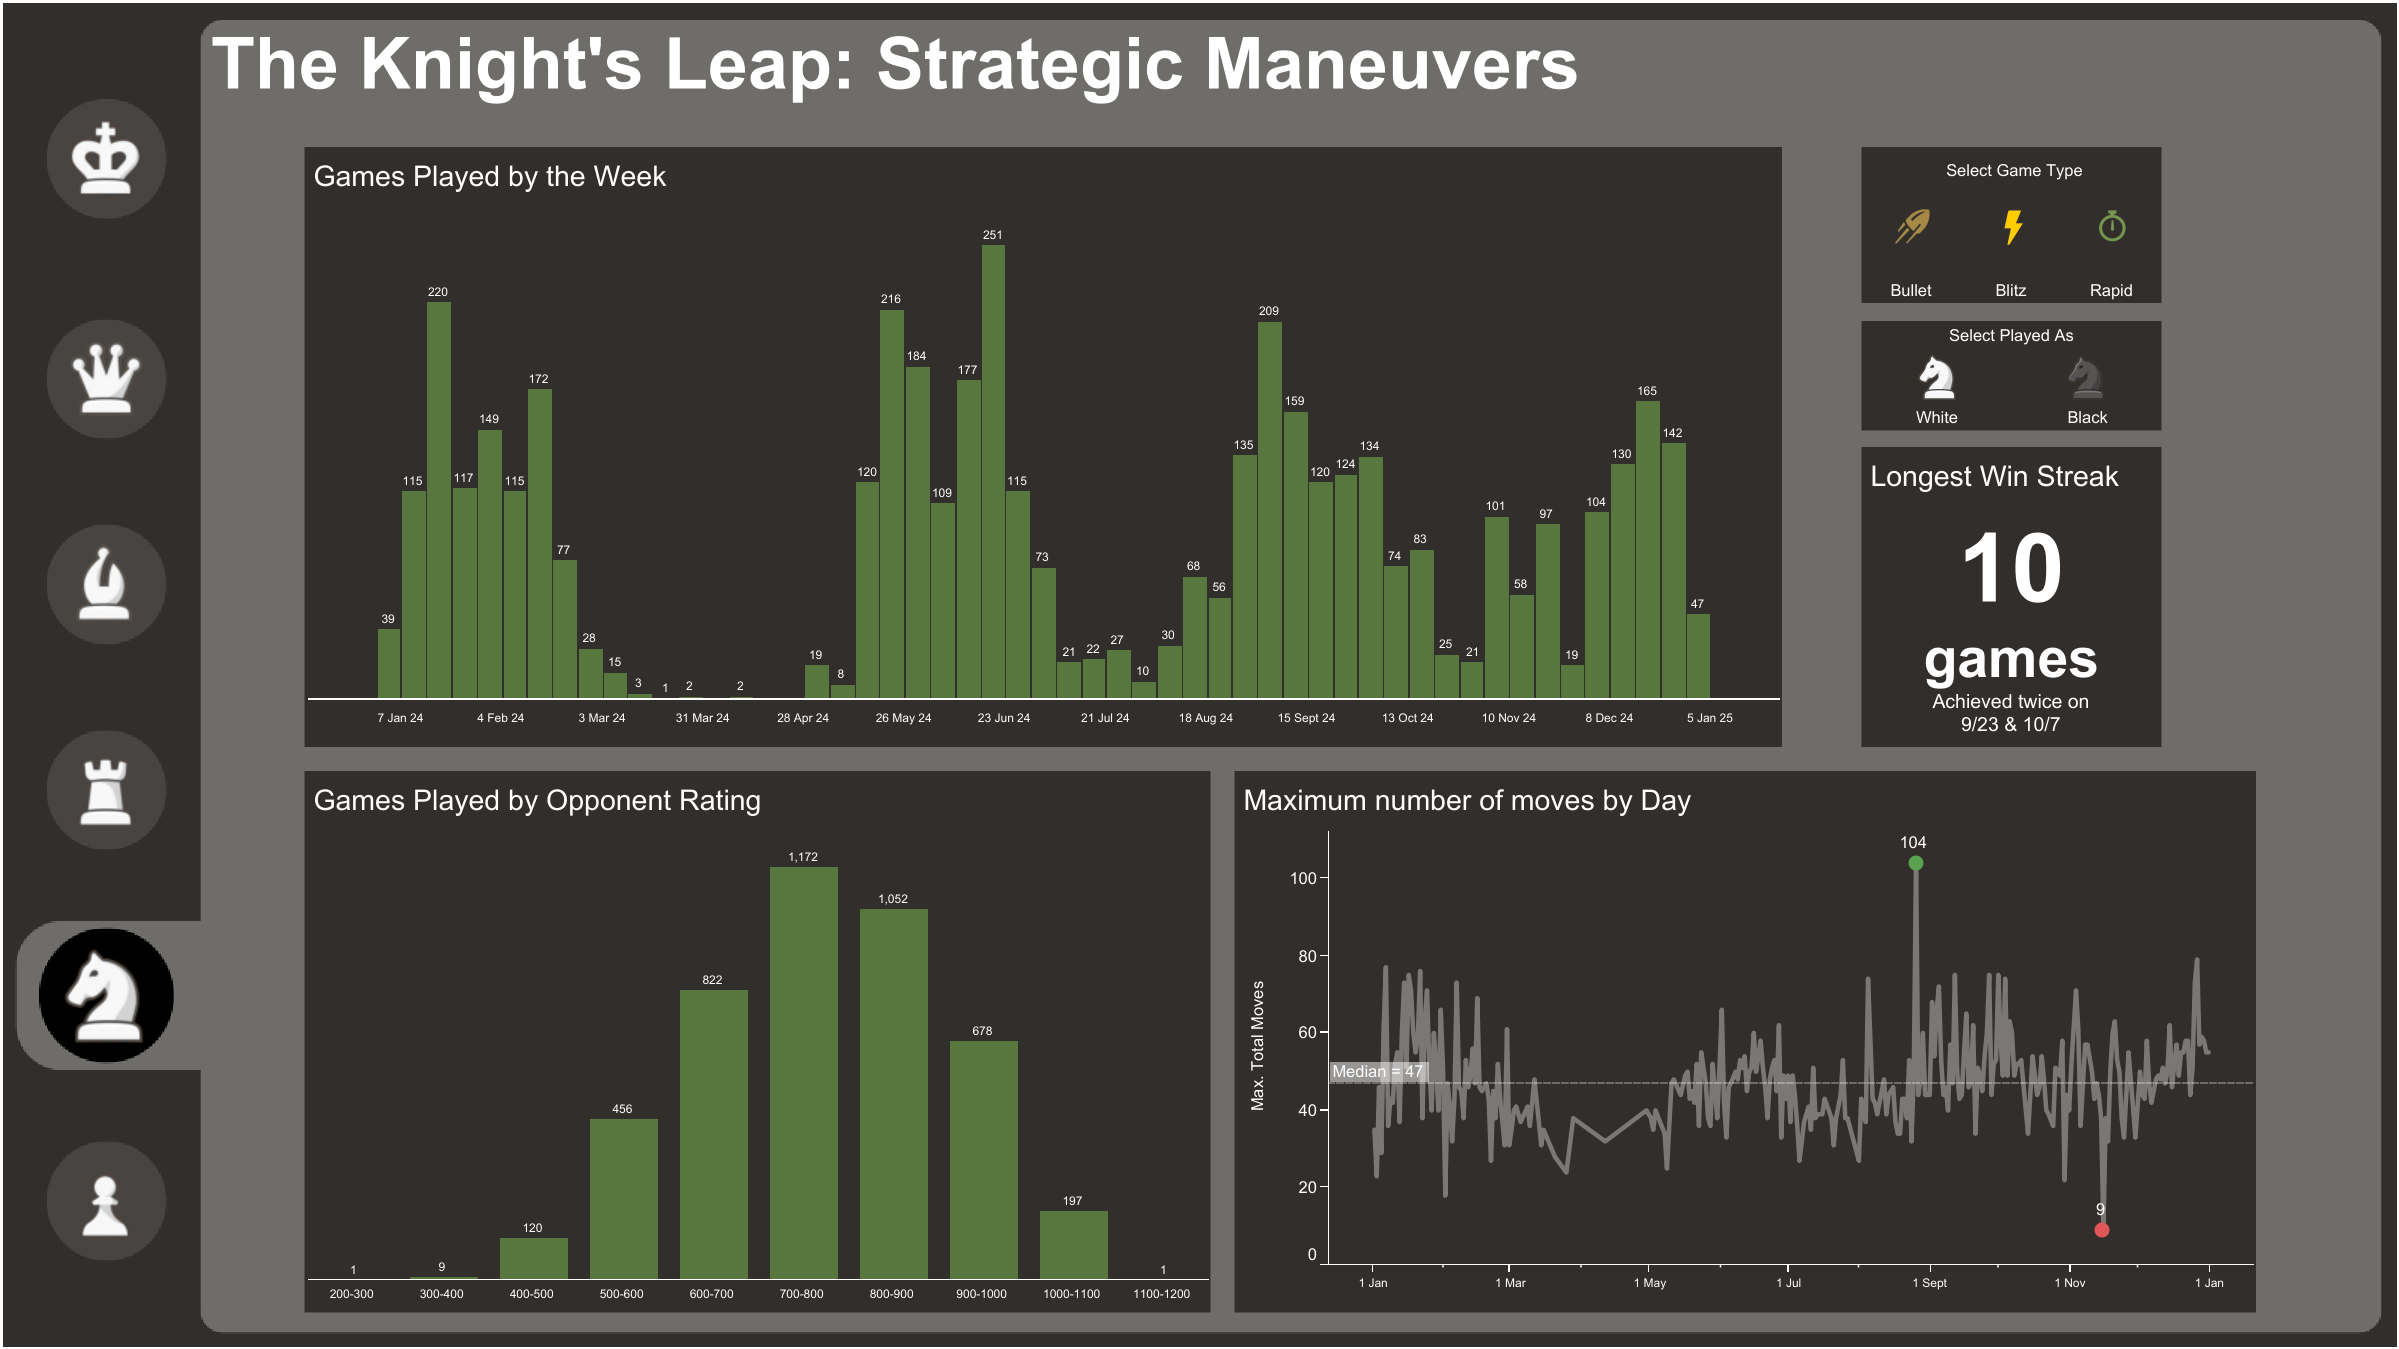

This screenshot's page, from the dashboard's own definition file:
{"tool":"tableau","page":{"name":"Knight","canvas":[1600,900],"ordinal":3},"visuals":[{"type":"image","param":"Image/Nav - 1 (5).png","box":[2,2,1596,896]},{"type":"text","box":[138,8,969,68]},{"type":"dashboard-object","box":[41,76,60,60]},{"type":"worksheet","title":"Games by week","mark":"Bar","rows":["Calculation_4287567616097128449"],"cols":["Date & Time"],"box":[203,98,985,400]},{"type":"worksheet","title":"Game Type Filter - Knight","mark":"Shape","cols":["Game_Type"],"box":[1241,98,200,104]},{"type":"text","box":[1293,98,100,30]},{"type":"text","box":[1291,208,100,30]},{"type":"worksheet","title":"Played As Filter - Knight","mark":"Shape","cols":["Played_as"],"box":[1241,214,200,73]},{"type":"dashboard-object","box":[41,222,60,60]},{"type":"worksheet","title":"Win Streak","mark":"Automatic","box":[1241,298,200,200]},{"type":"dashboard-object","box":[41,359,60,60]},{"type":"image","param":"Image/Knight Text.png","box":[1104,410,420,414]},{"type":"dashboard-object","box":[41,496,60,60]},{"type":"worksheet","title":"Opp Rating Games Hist","mark":"Automatic","rows":["Calculation_4287567616097128449"],"cols":["Calculation_5530631486669508630"],"box":[203,514,604,361]},{"type":"worksheet","title":"Max moves by week","mark":"Automatic","rows":["Total_Moves"],"cols":["Date & Time"],"box":[823,514,681,361]},{"type":"image","param":"Image/Horse_W.png","box":[33,626,75,75]},{"type":"dashboard-object","box":[41,770,60,60]},{"type":"dashboard-object","box":[1506,800,79,86]}]}

Visuals, with their boxes in screenshot pixels (x1, y1, x2, y2), scaled from the page's 1600x900 canvas onto the 2399x1349 screenshot:
image: locate(3, 3, 2396, 1346)
text: locate(207, 12, 1660, 114)
dashboard-object: locate(61, 114, 151, 204)
"Games by week" worksheet (Bar marks): locate(304, 147, 1781, 746)
"Game Type Filter - Knight" worksheet (Shape marks): locate(1861, 147, 2161, 303)
text: locate(1939, 147, 2089, 192)
text: locate(1936, 312, 2086, 357)
"Played As Filter - Knight" worksheet (Shape marks): locate(1861, 321, 2161, 430)
dashboard-object: locate(61, 333, 151, 423)
"Win Streak" worksheet: locate(1861, 447, 2161, 746)
dashboard-object: locate(61, 538, 151, 628)
image: locate(1655, 615, 2285, 1235)
dashboard-object: locate(61, 743, 151, 833)
"Opp Rating Games Hist" worksheet: locate(304, 770, 1210, 1312)
"Max moves by week" worksheet: locate(1234, 770, 2255, 1312)
image: locate(49, 938, 162, 1051)
dashboard-object: locate(61, 1154, 151, 1244)
dashboard-object: locate(2258, 1199, 2377, 1328)
